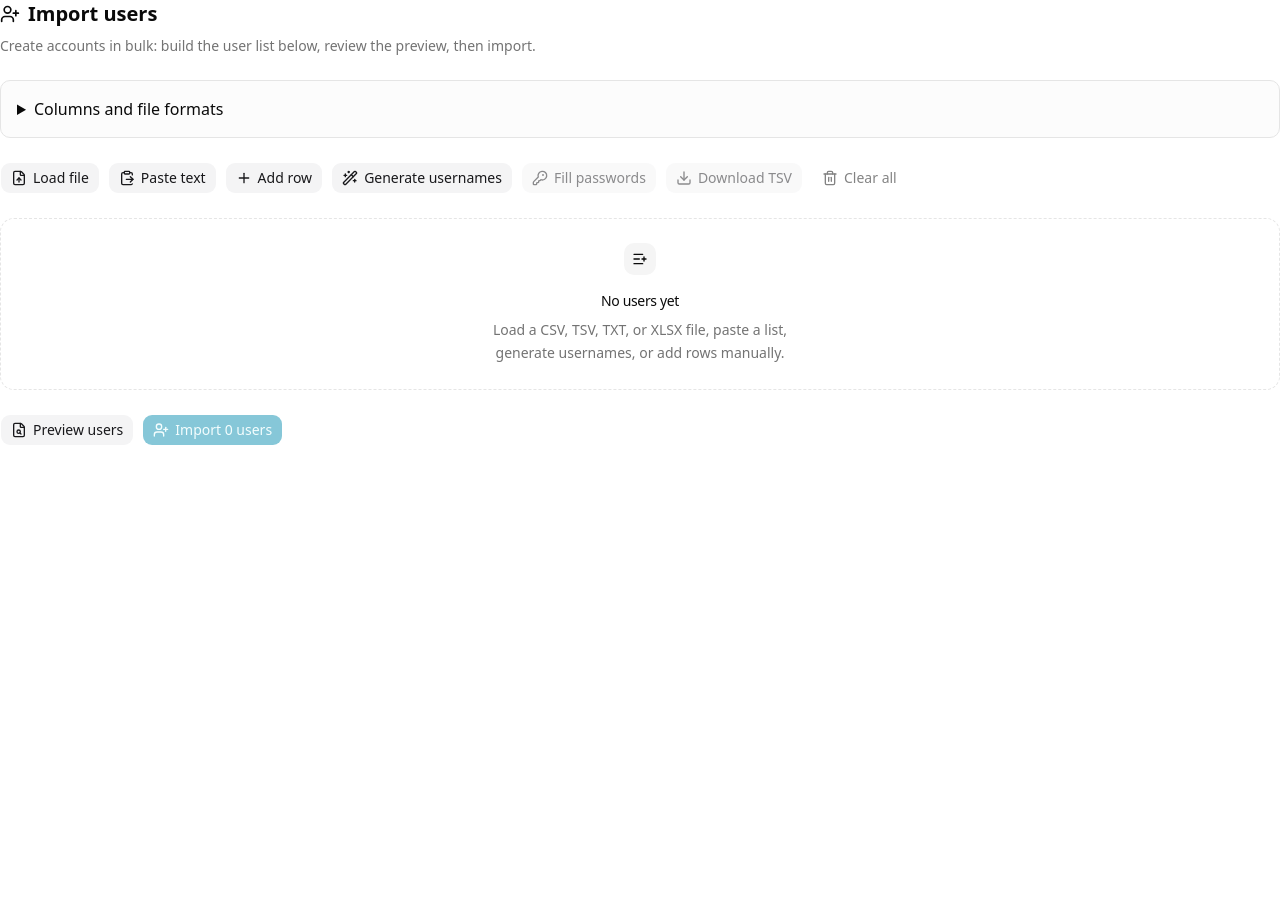
Test: user import workflow › appends generated usernames as new rows
Click the button "Generate usernames" at point(422, 178), box 331,162 -> 513,194
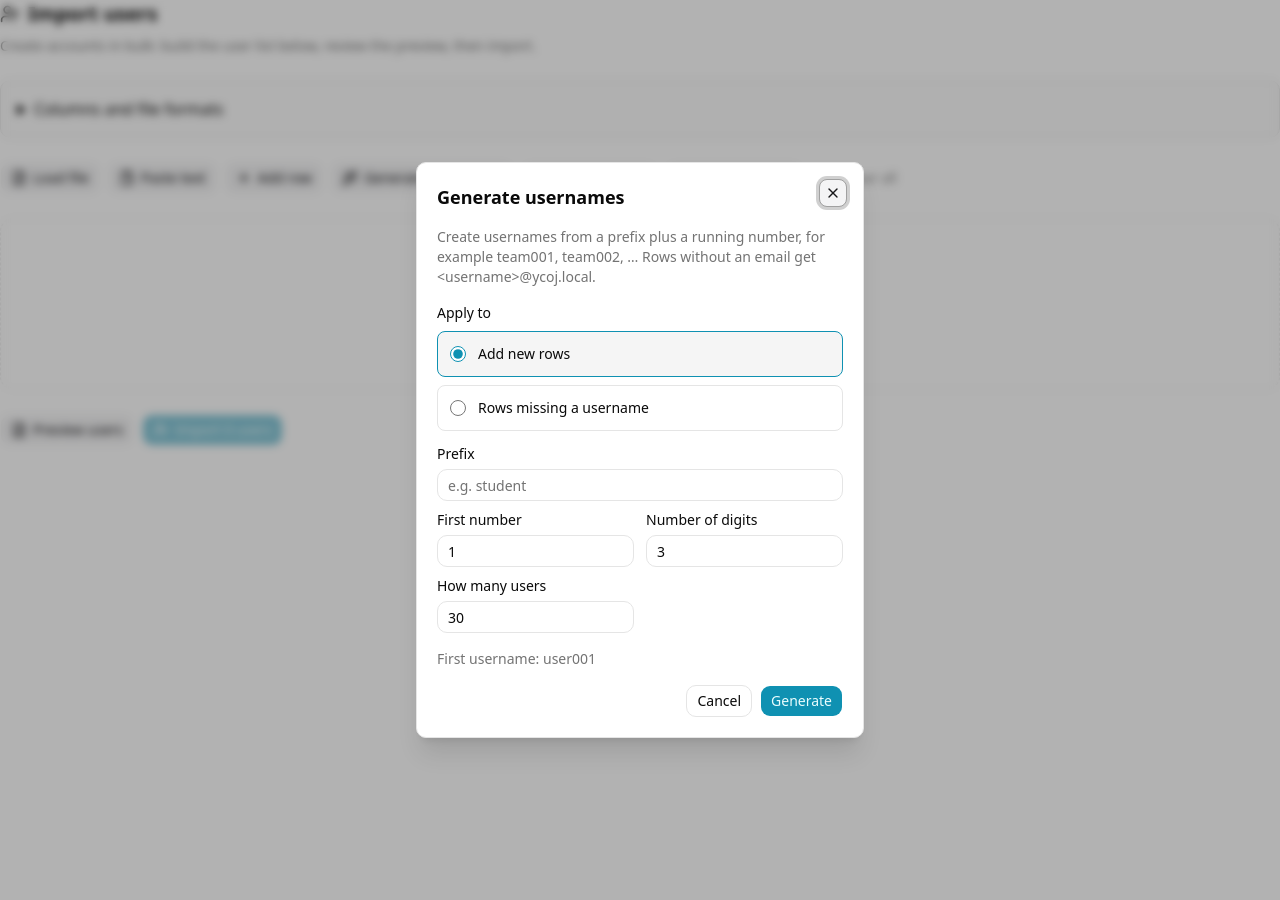
Type "team" into the field labelled "Prefix" at point(640, 485), box 437,469 -> 843,501
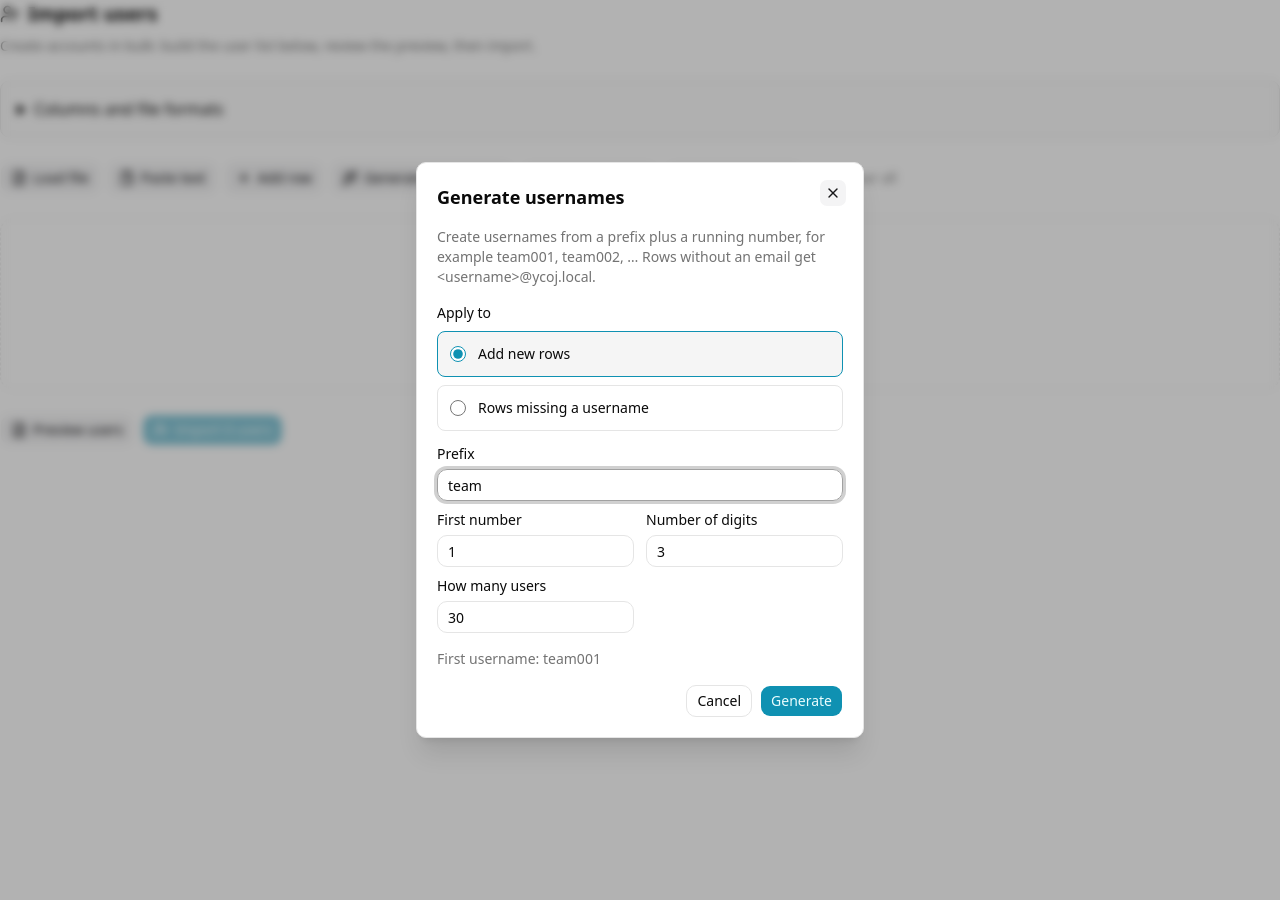
Replace the text in the number field labelled "How many users" with "2" at point(536, 617), box 437,601 -> 634,633
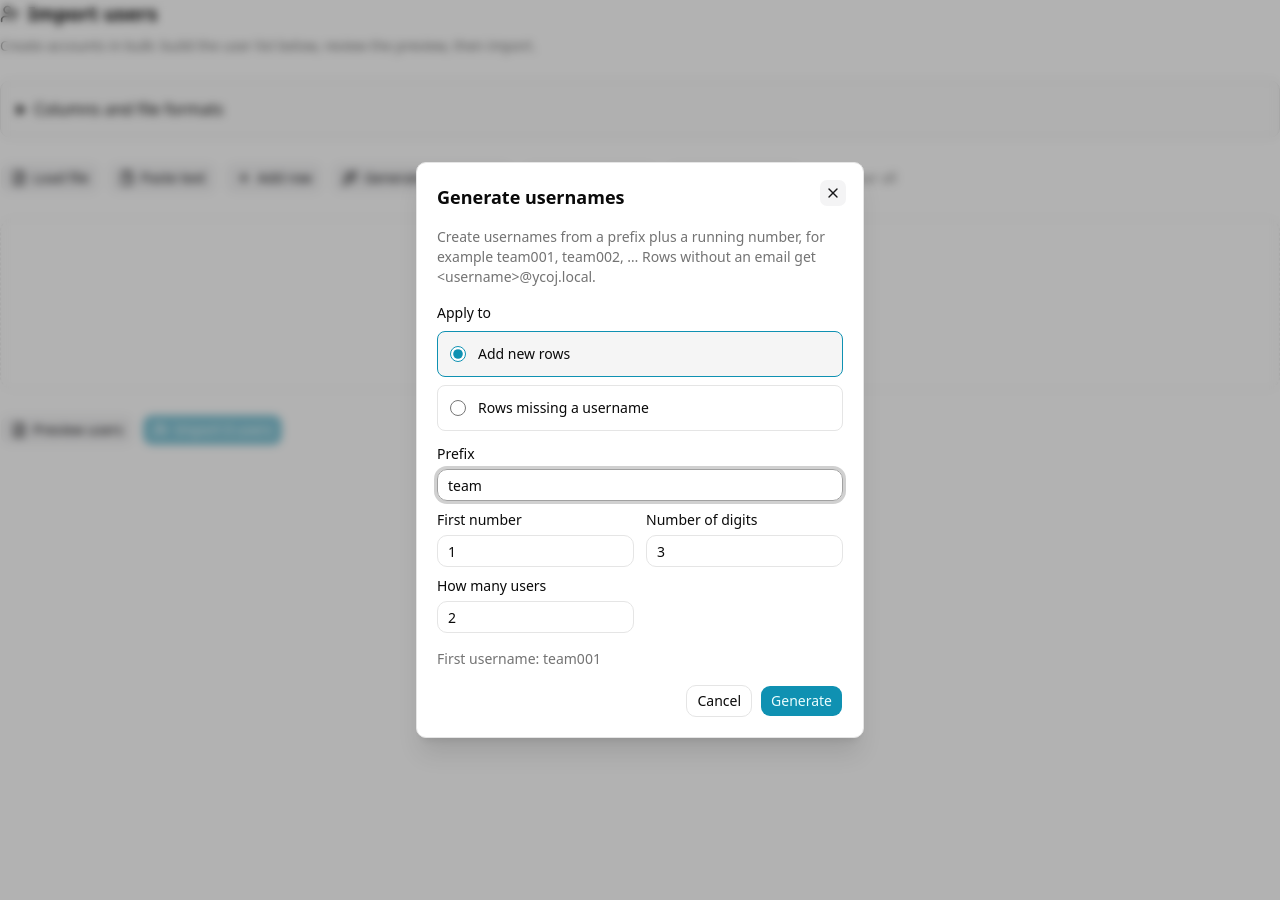
Click the button "Generate" at point(802, 701), box 760,685 -> 843,717
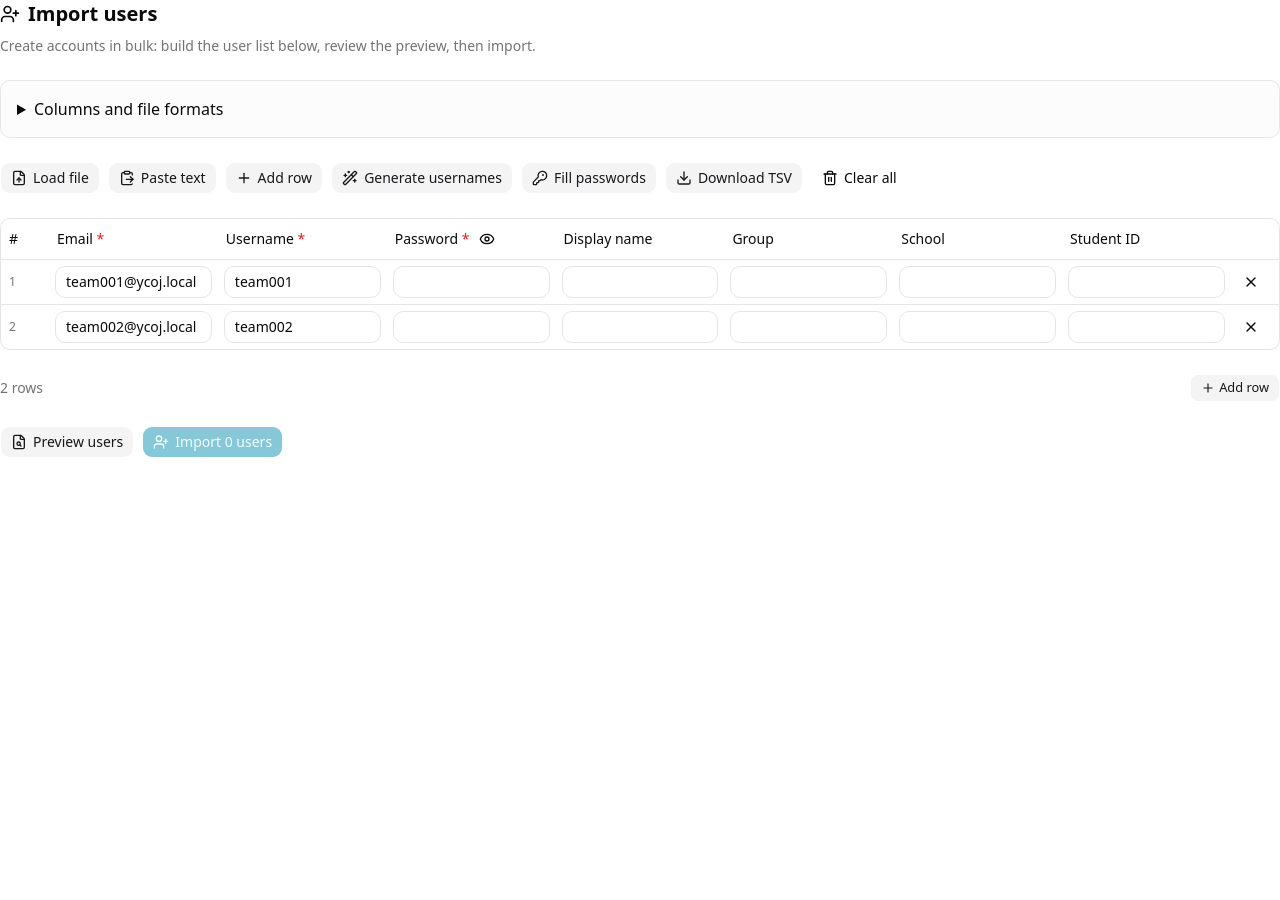
expect the field named "Row 1 Username" holds "team001": met, box 224,266 -> 381,298
expect the field named "Row 2 Username" holds "team002": met, box 224,310 -> 381,342
expect the field named "Row 1 Email" holds "team001@ycoj.local": met, box 55,266 -> 212,298
